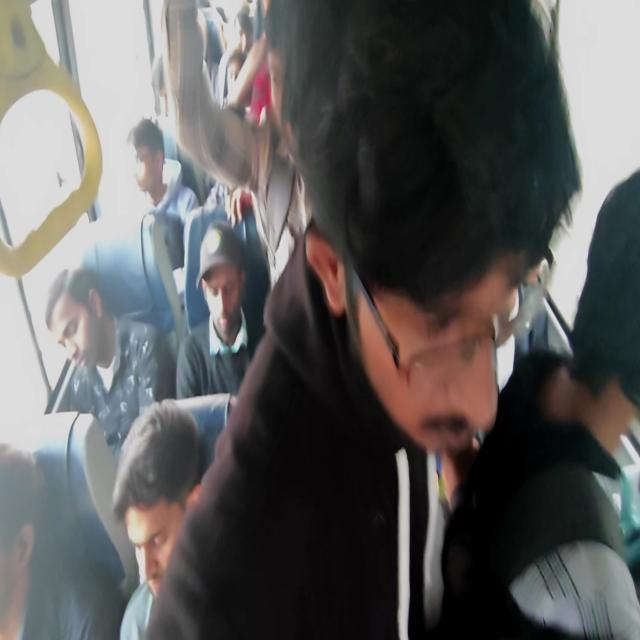person: (294, 39, 584, 566), (527, 208, 640, 477), (104, 430, 217, 594), (268, 29, 355, 175), (0, 469, 74, 640), (24, 285, 122, 386), (189, 246, 244, 334), (128, 128, 178, 224), (153, 52, 197, 131), (228, 65, 275, 127), (178, 8, 211, 46), (227, 20, 251, 60)
